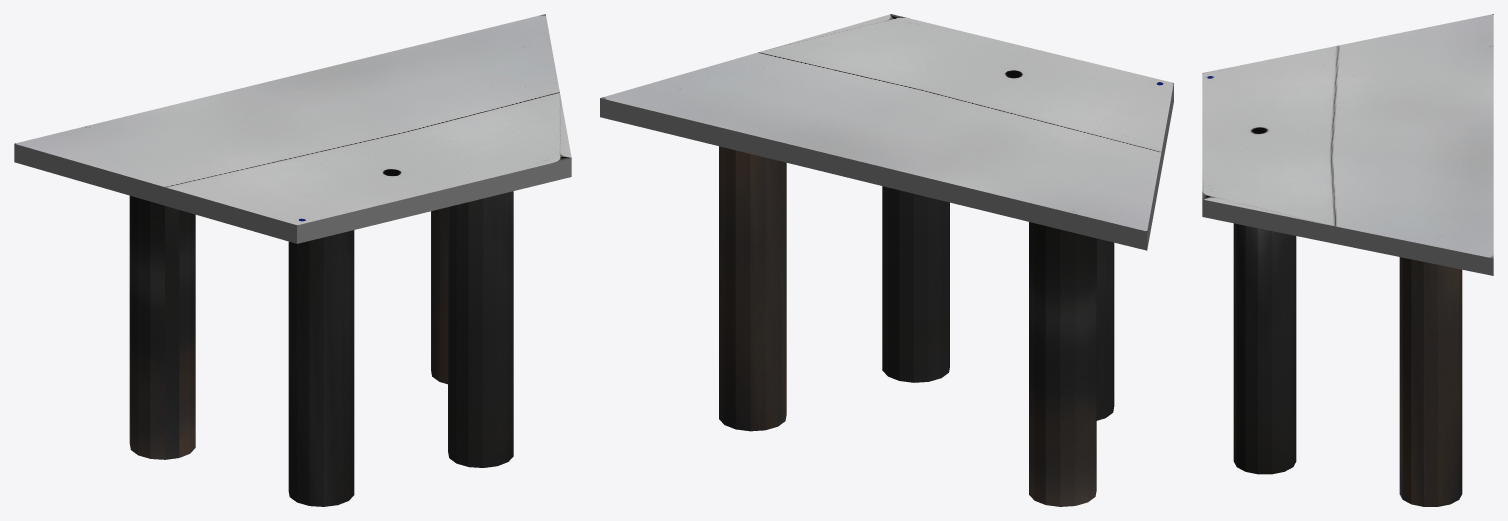
The model's file is w311_desk_2.dae.
3 views of the same model, side by side, from view 1: azimuth 30°, elevation 25°; view 2: azimuth 150°, elevation 25°; view 3: azimuth 270°, elevation 25° (orthographic). The views are drawn at different scales.
Visible parts, largest first — view 1: w311_desk_2; view 2: w311_desk_2; view 3: w311_desk_2.
Boxes of the visible parts, box(x1,y1,x2,y2) form: w311_desk_2: box(14, 14, 571, 506); w311_desk_2: box(600, 14, 1173, 506); w311_desk_2: box(1202, 14, 1493, 506).
Size of the model in its own units: 1.2 by 0.604 by 0.66.
